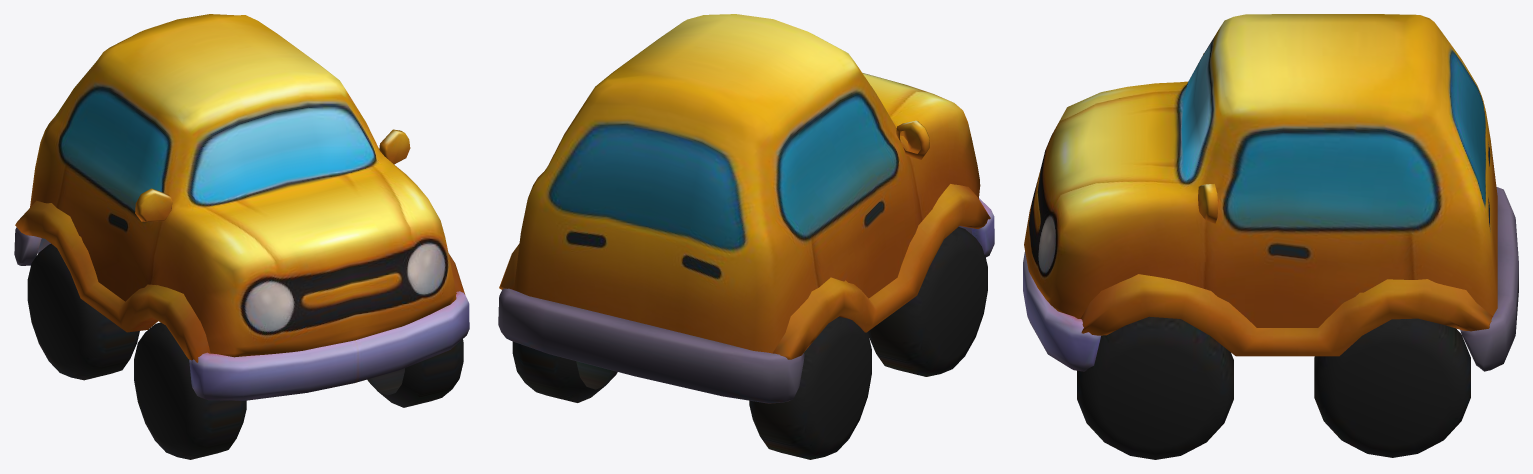
The model's file is Vang.fbx.
3 renders of one model, left to right at view 1: azimuth 30°, elevation 25°; view 2: azimuth 150°, elevation 25°; view 3: azimuth 270°, elevation 25°, orthographic. The views are drawn at different scales.
Visible parts, largest first — view 1: Vang, VangBanh; view 2: Vang, VangBanh; view 3: Vang, VangBanh.
Part boxes in pixels (<box>): Vang: <box>14,14,469,400</box>; VangBanh: <box>27,243,463,459</box>; Vang: <box>498,14,994,403</box>; VangBanh: <box>512,227,987,459</box>; Vang: <box>1023,14,1518,371</box>; VangBanh: <box>1077,316,1470,459</box>.
Size of the model in its own units: 1.75 by 2.44 by 1.93.
